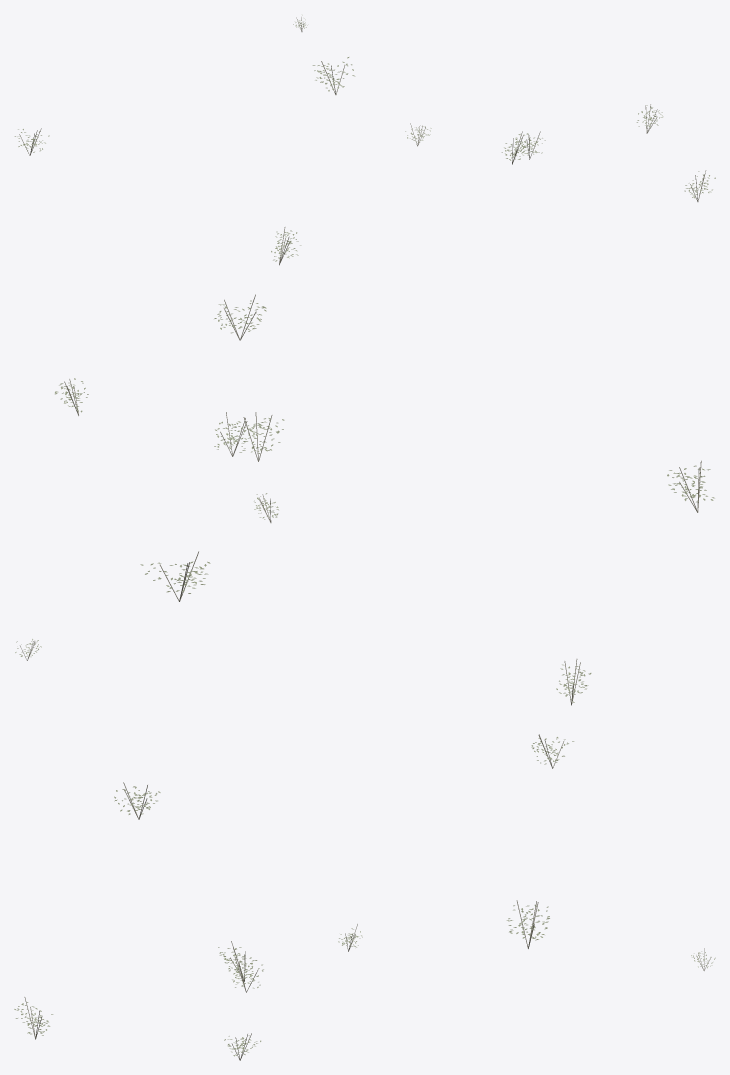
Rendered from AE_Shrubs_1_-1.fbx.
3 renders of one model, top to bottom at view 1: azimuth 30°, elevation 25°; view 2: azimuth 150°, elevation 25°; view 3: azimuth 270°, elevation 25°, orthographic. The views are drawn at different scales.
Visible parts, largest first — view 1: AE_Shrubs_1_-1_LOD0; view 2: AE_Shrubs_1_-1_LOD0; view 3: AE_Shrubs_1_-1_LOD0.
Part boxes in pixels (bbox=[...]): AE_Shrubs_1_-1_LOD0: bbox=[14, 15, 715, 265]; AE_Shrubs_1_-1_LOD0: bbox=[15, 294, 714, 705]; AE_Shrubs_1_-1_LOD0: bbox=[14, 734, 715, 1060].
Size of what is drawn, in the model's own units: 2917 by 194 by 2842.
